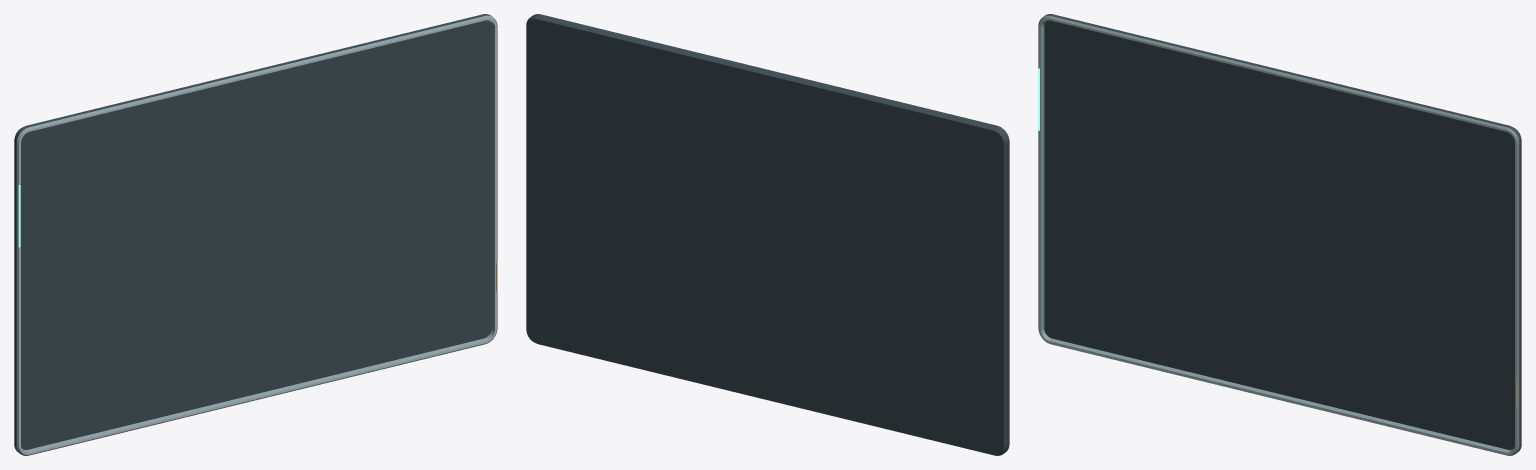
The model's file is studio_menu_frame.glb.
The picture shows the model from 3 angles, left to right: view 1: azimuth 30°, elevation 25°; view 2: azimuth 150°, elevation 25°; view 3: azimuth 330°, elevation 25°; orthographic projection.
Visible parts, largest first — view 1: studio_menu_frame; view 2: studio_menu_frame; view 3: studio_menu_frame.
Part boxes in pixels (left/top/right/bottom): studio_menu_frame: left=14, top=14, right=497, bottom=455; studio_menu_frame: left=526, top=14, right=1009, bottom=455; studio_menu_frame: left=1038, top=14, right=1521, bottom=455.
Bounding box in the file's own units: 3.25 × 2.12 × 0.064.
